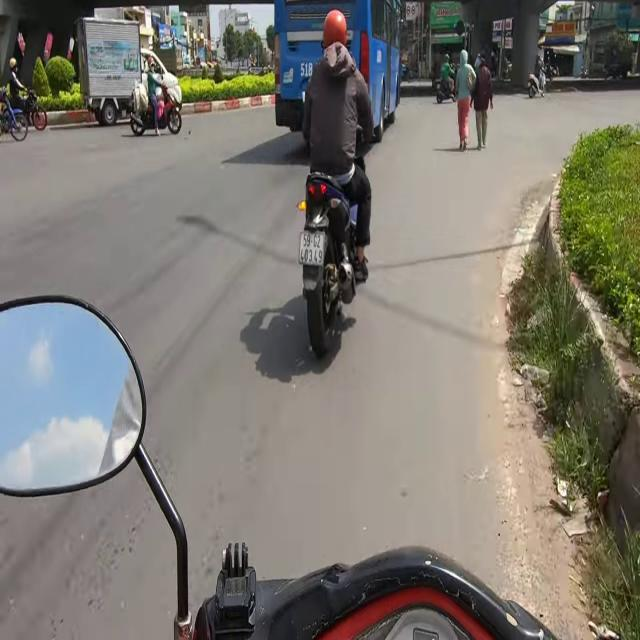bien_trang: (299, 227, 325, 270)
